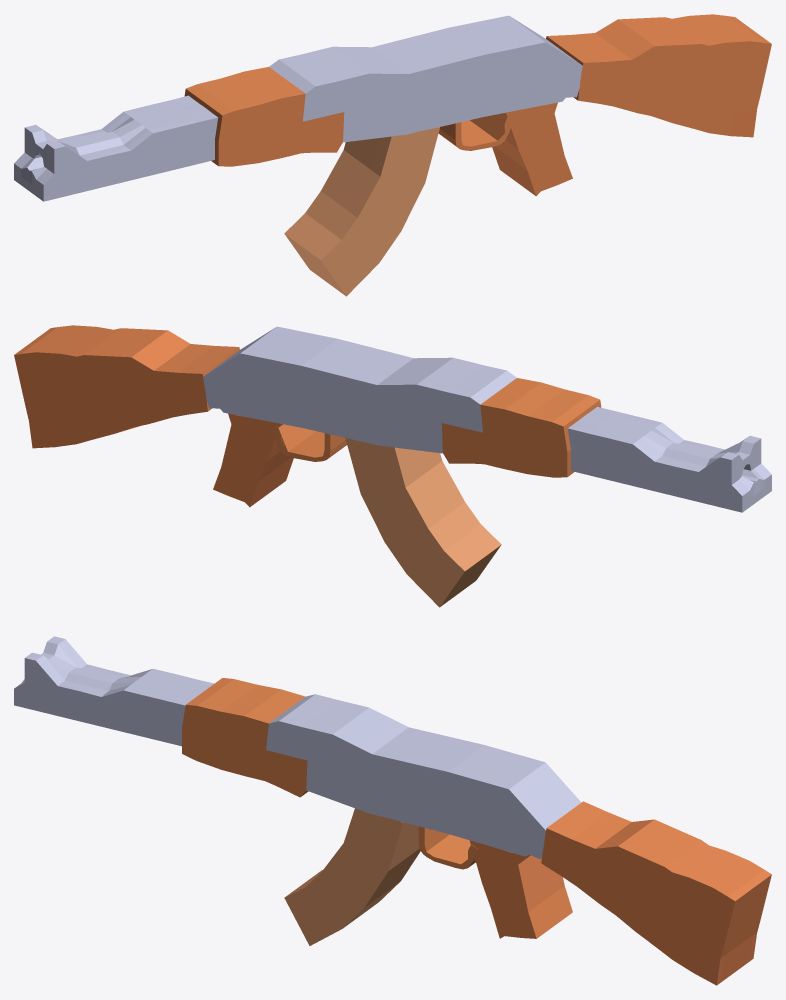
File: akak.fbx
The picture shows the model from 3 angles, top to bottom: view 1: azimuth 30°, elevation 25°; view 2: azimuth 150°, elevation 25°; view 3: azimuth 330°, elevation 25°; orthographic projection.
Visible parts, largest first — view 1: Cube; view 2: Cube; view 3: Cube.
Boxes of the visible parts, x1,y1,x2,y2 form: Cube: (14,14,771,296); Cube: (14,325,771,607); Cube: (14,636,771,985).
Size of the model in its own units: 455 by 131 by 40.06.
